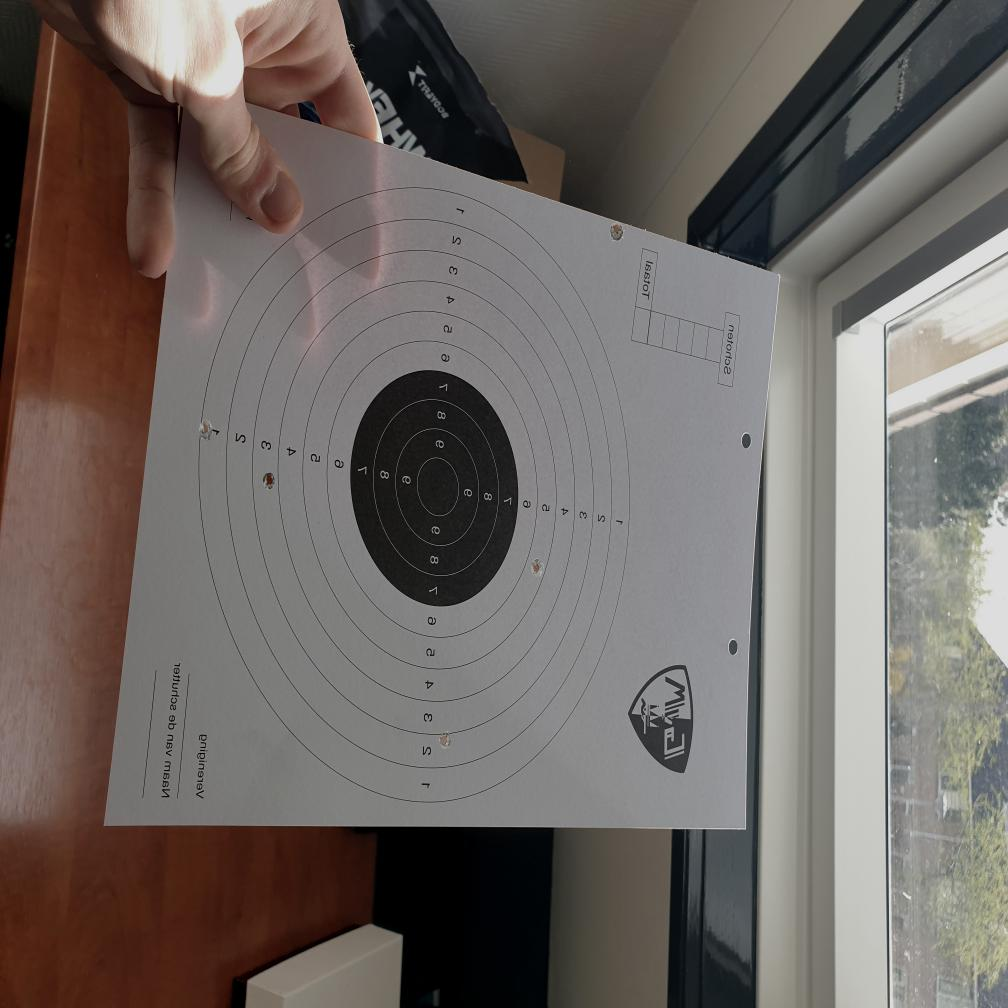0: (610, 222, 624, 241)
1: (199, 420, 213, 441)
3: (263, 472, 276, 490), (440, 730, 451, 749)
5: (531, 558, 544, 577)
Target: (197, 183, 631, 804)
black_contour: (351, 370, 519, 606)
